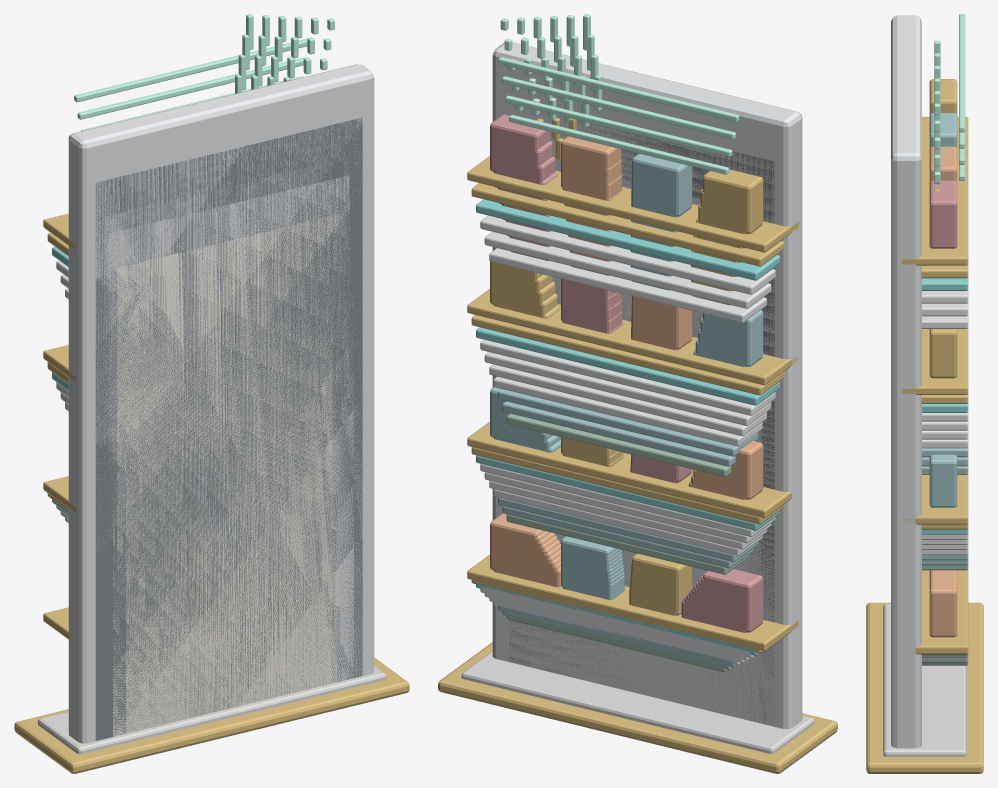
Rendered from Gear11.fbx.
3 views of the same model, side by side, from view 1: azimuth 30°, elevation 25°; view 2: azimuth 150°, elevation 25°; view 3: azimuth 270°, elevation 25° (orthographic). The views are drawn at different scales.
Parts seen in each view (by area): view 1: Gear11_V8_Graphite, Gear11_V1_Ivory, Gear11_V10_Platinum, Gear11_V3_Linen, Gear11_V5_Platinum, Gear11_V6_Platinum, Gear11_V7_Graphite, Gear11_V10_Gold, Gear11_V9_Platinum, Gear11_V9_Gold, Gear11_V10_Chrome, Gear11_V10_Glow (+5 smaller); view 2: Gear11_V10_Platinum, Gear11_V10_Gold, Gear11_V9_Gold, Gear11_V7_Platinum, Gear11_V5_Platinum, Gear11_V8_Aqua, Gear11_V6_Platinum, Gear11_V10_Apricot, Gear11_V10_Blue, Gear11_V8_Chrome, Gear11_V4_Platinum, Gear11_V2_Blue (+31 smaller); view 3: Gear11_V10_Platinum, Gear11_V10_Gold, Gear11_V9_Gold, Gear11_V10_Chrome, Gear11_V4_Chrome, Gear11_V10_Apricot, Gear11_V10_Blue, Gear11_V10_Rose, Gear11_V6_Platinum, Gear11_V5_Platinum, Gear11_V7_Platinum, Gear11_V8_Aqua (+13 smaller).
Boxes of the visible parts, x1,y1,x2,y2 form: Gear11_V8_Graphite: (95,117,362,740); Gear11_V1_Ivory: (126,253,332,733); Gear11_V10_Platinum: (68,64,374,743); Gear11_V3_Linen: (117,214,340,733); Gear11_V5_Platinum: (65,175,349,694); Gear11_V6_Platinum: (60,158,353,703); Gear11_V7_Graphite: (100,137,358,739); Gear11_V10_Gold: (14,213,409,773); Gear11_V9_Platinum: (91,100,366,693); Gear11_V9_Gold: (22,233,403,772); Gear11_V10_Chrome: (37,666,386,754); Gear11_V10_Glow: (74,14,334,102); Gear11_V10_Platinum: (492,42,802,729); Gear11_V10_Gold: (438,156,837,773); Gear11_V9_Gold: (444,183,829,772); Gear11_V7_Platinum: (480,215,775,657); Gear11_V5_Platinum: (489,164,766,721); Gear11_V8_Aqua: (476,199,779,655); Gear11_V6_Platinum: (484,165,771,660); Gear11_V10_Apricot: (490,136,763,577); Gear11_V10_Blue: (490,153,763,586); Gear11_V8_Chrome: (472,658,802,751); Gear11_V4_Platinum: (493,376,762,665); Gear11_V2_Blue: (502,401,753,669); Gear11_V10_Platinum: (891,15,921,748); Gear11_V10_Gold: (866,79,983,773); Gear11_V9_Gold: (866,264,983,762); Gear11_V10_Chrome: (883,604,966,756); Gear11_V4_Chrome: (883,623,965,737); Gear11_V10_Apricot: (929,146,957,637); Gear11_V10_Blue: (929,113,957,570); Gear11_V10_Rose: (929,180,957,248); Gear11_V6_Platinum: (922,302,968,659); Gear11_V5_Platinum: (922,315,968,660); Gear11_V7_Platinum: (922,289,968,657); Gear11_V8_Aqua: (922,277,968,656).
Size of the model in its own units: 125 by 240 by 38.
